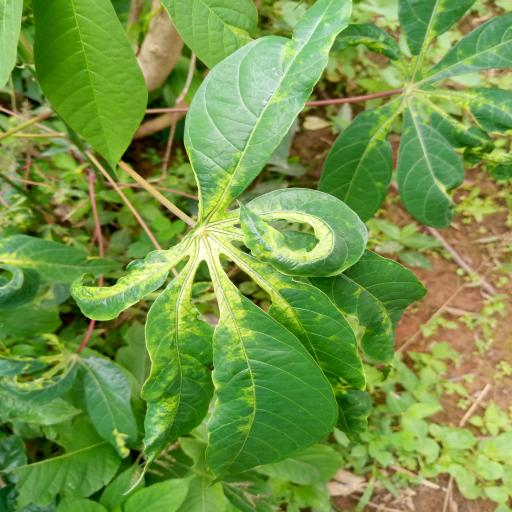Cassava_Mosaic: (70, 0, 431, 487), (314, 0, 512, 232)
